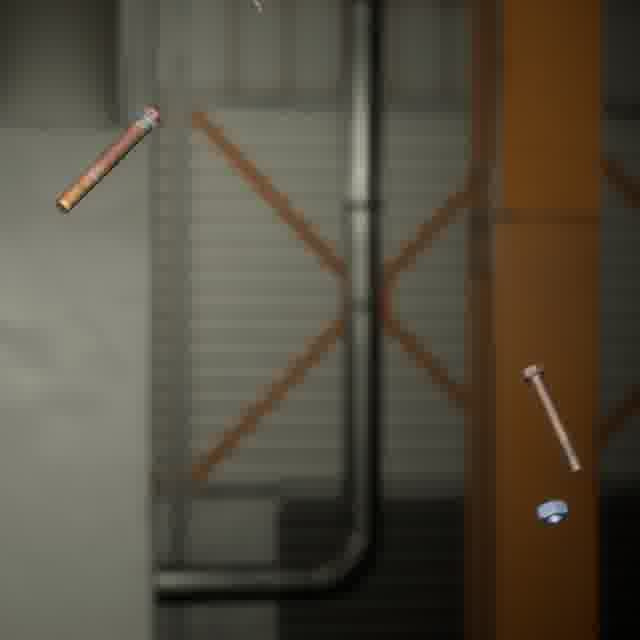bolt: (51, 102, 166, 217), (516, 359, 587, 478)
nut: (532, 495, 572, 528)
